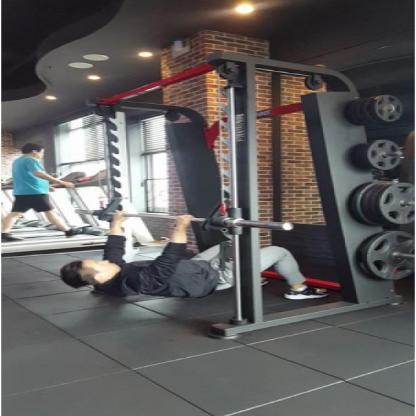smith machine: (81, 53, 416, 342)
